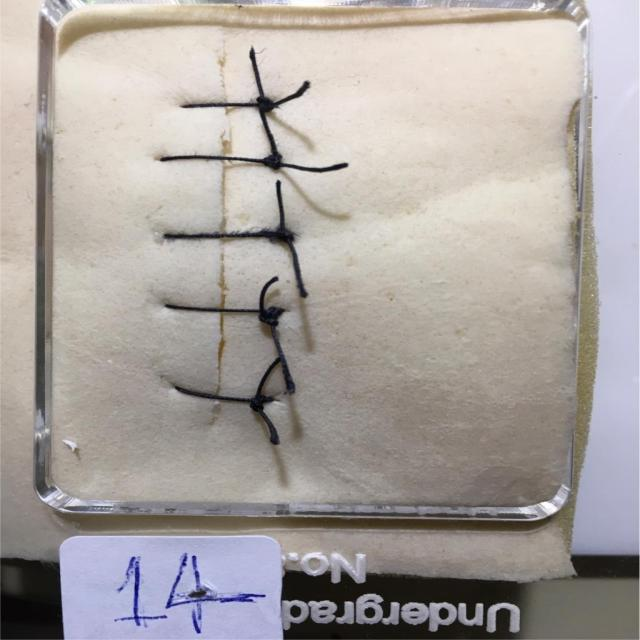knot: (259, 308, 284, 326), (251, 396, 273, 413), (262, 154, 282, 170), (257, 96, 274, 113), (276, 229, 294, 242)
leftover: (264, 308, 293, 395), (280, 233, 308, 299), (250, 397, 278, 447), (254, 355, 282, 402), (267, 79, 310, 108), (248, 44, 267, 108), (259, 104, 278, 164), (266, 159, 350, 172), (258, 275, 279, 313), (275, 178, 286, 237)
stitch: (172, 386, 275, 402), (157, 155, 282, 164), (162, 304, 286, 313), (161, 232, 295, 238), (178, 102, 280, 109)
wound: (209, 39, 233, 419)
